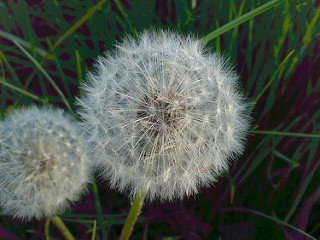dandelion white: (73, 26, 257, 204), (1, 102, 96, 222)
